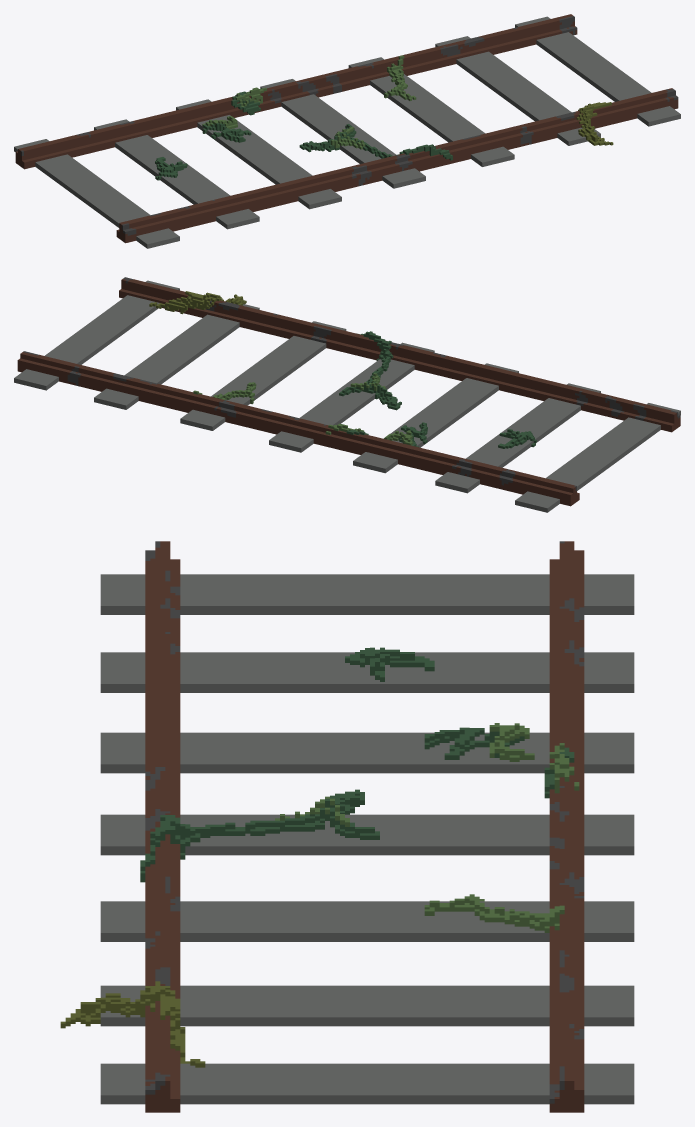
Rendered from track.FBX.
3 renders of one model, top to bottom at view 1: azimuth 30°, elevation 25°; view 2: azimuth 150°, elevation 25°; view 3: azimuth 270°, elevation 25°, orthographic. The views are drawn at different scales.
Parts seen in each view (by area): view 1: track; view 2: track; view 3: track.
Part boxes in pixels (x1,y1,x2,y2): track: (14,14,680,248); track: (14,277,680,512); track: (60,541,634,1112).
Bounding box in the file's own units: 25.6 × 0.9 × 11.5.
1 material, 1 textured.
